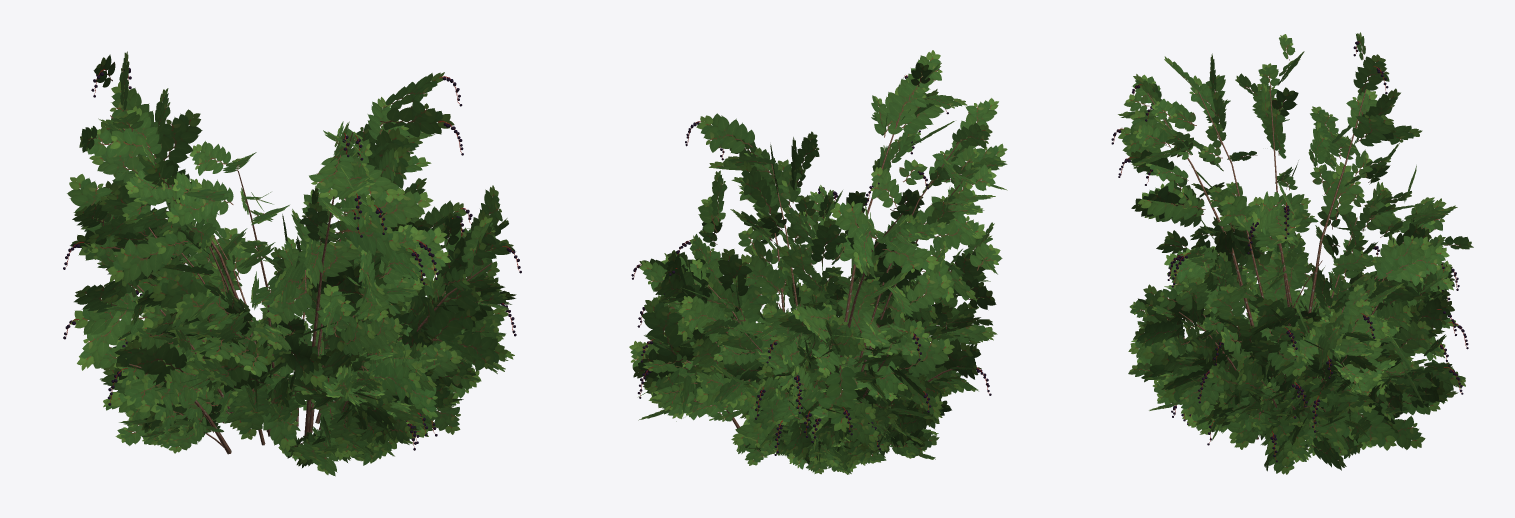
File: salal.glb
The picture shows the model from 3 angles, left to right: view 1: azimuth 30°, elevation 25°; view 2: azimuth 150°, elevation 25°; view 3: azimuth 270°, elevation 25°; orthographic projection. The views are drawn at different scales.
Visible parts, largest first — view 1: salal_c_lod0, salal_b_lod0, salal_a_lod0, salal_c_berries; view 2: salal_c_lod0, salal_b_lod0, salal_a_lod0, salal_c_berries, salal_b_berries; view 3: salal_c_lod0, salal_b_lod0, salal_c_berries, salal_b_berries, salal_a_lod0.
Part boxes in pixels (bbox=[...]): salal_c_lod0: bbox=[67, 51, 516, 454]; salal_b_lod0: bbox=[100, 178, 487, 476]; salal_a_lod0: bbox=[141, 301, 432, 461]; salal_c_berries: bbox=[63, 67, 521, 405]; salal_c_lod0: bbox=[629, 50, 1007, 465]; salal_b_lod0: bbox=[653, 185, 942, 463]; salal_a_lod0: bbox=[733, 309, 938, 474]; salal_c_berries: bbox=[631, 69, 991, 413]; salal_b_berries: bbox=[663, 187, 880, 455]; salal_c_lod0: bbox=[1118, 32, 1473, 470]; salal_b_lod0: bbox=[1128, 235, 1458, 474]; salal_c_berries: bbox=[1111, 41, 1463, 432]; salal_b_berries: bbox=[1167, 253, 1468, 462]; salal_a_lod0: bbox=[1179, 311, 1413, 440].
Size of what is drawn, in the model's own units: 2.55 by 2.22 by 2.35.
4 materials, 2 textured.
